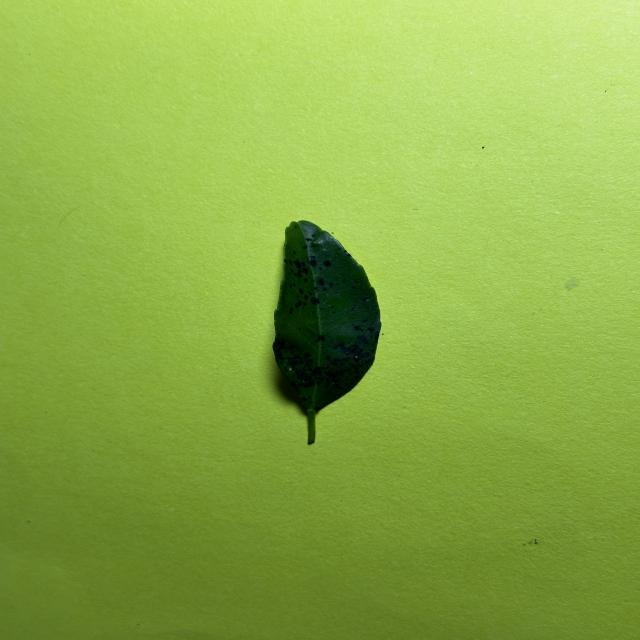sooty_mold: (273, 220, 381, 413)
